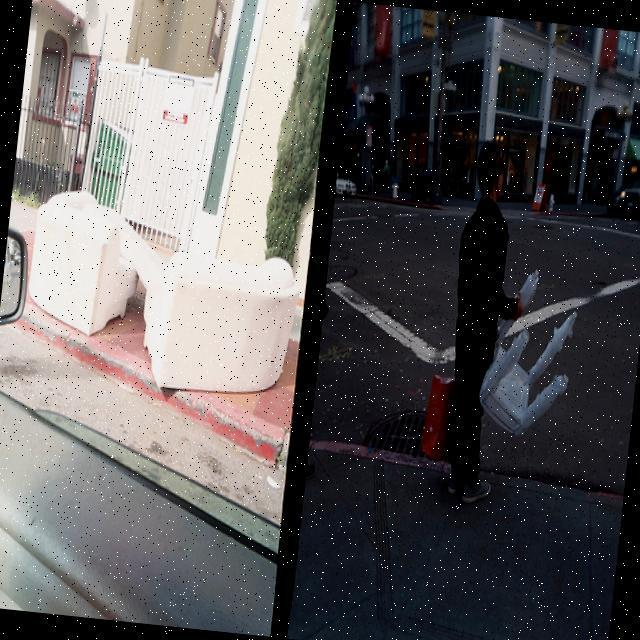fire_hydrant: (390, 178, 399, 198), (548, 192, 556, 211)
